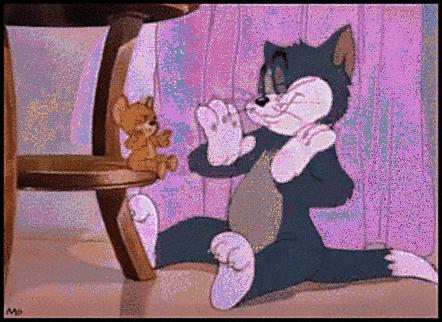jerry: (109, 93, 179, 179)
